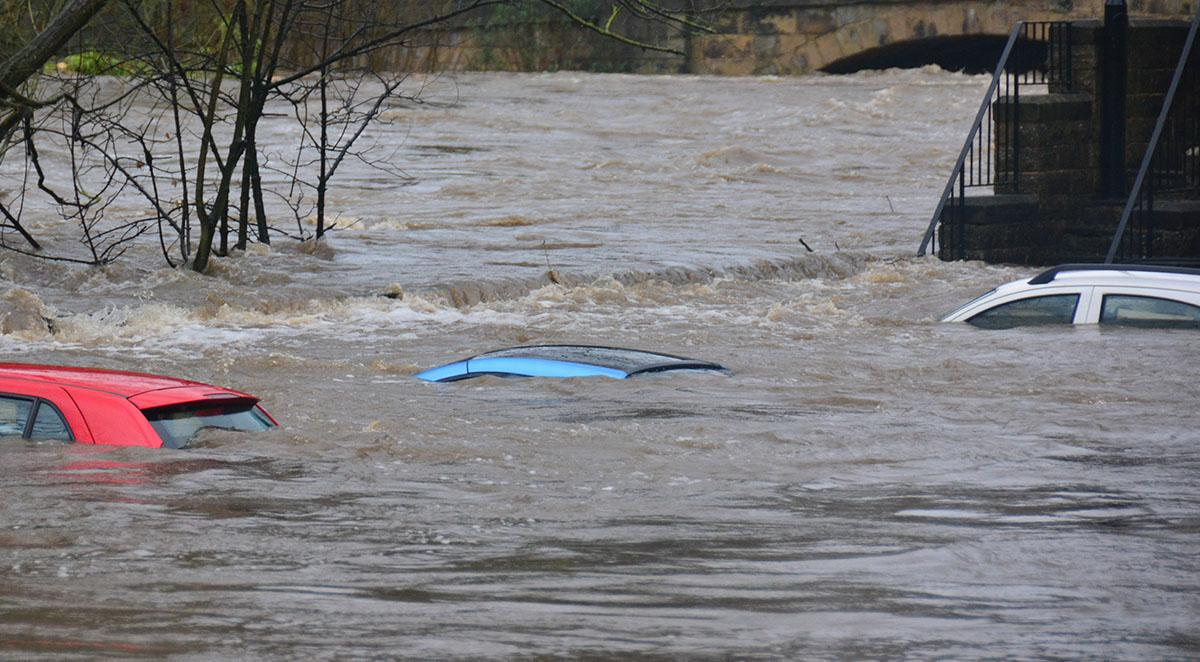water: (0, 77, 1199, 659)
